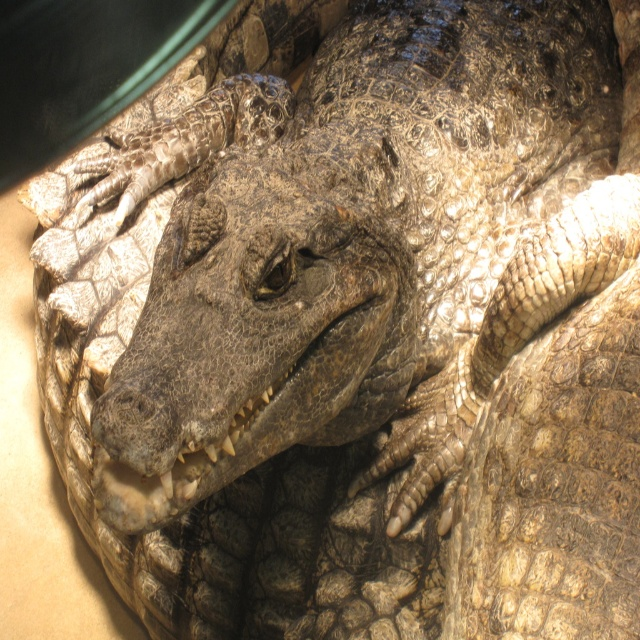Crocodile: (16, 0, 640, 640)
